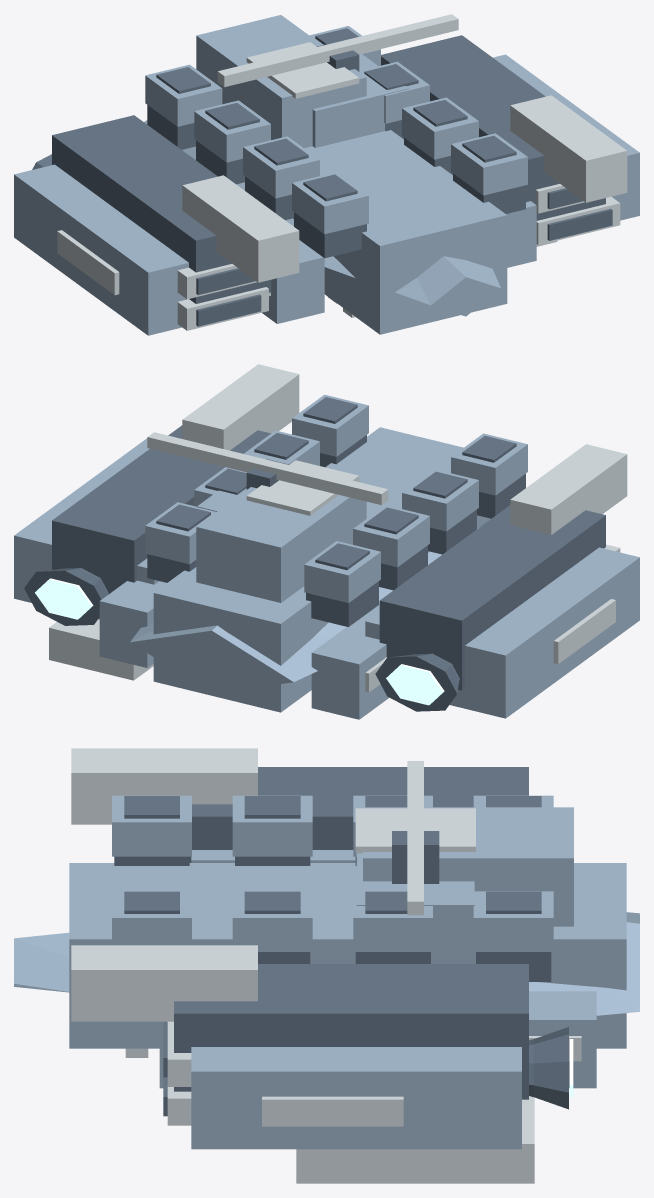
The picture shows the model from 3 angles, top to bottom: view 1: azimuth 30°, elevation 25°; view 2: azimuth 150°, elevation 25°; view 3: azimuth 270°, elevation 25°; orthographic projection. The views are drawn at different scales.
Size of the model in its own units: 18.92 by 7.32 by 16.62.
